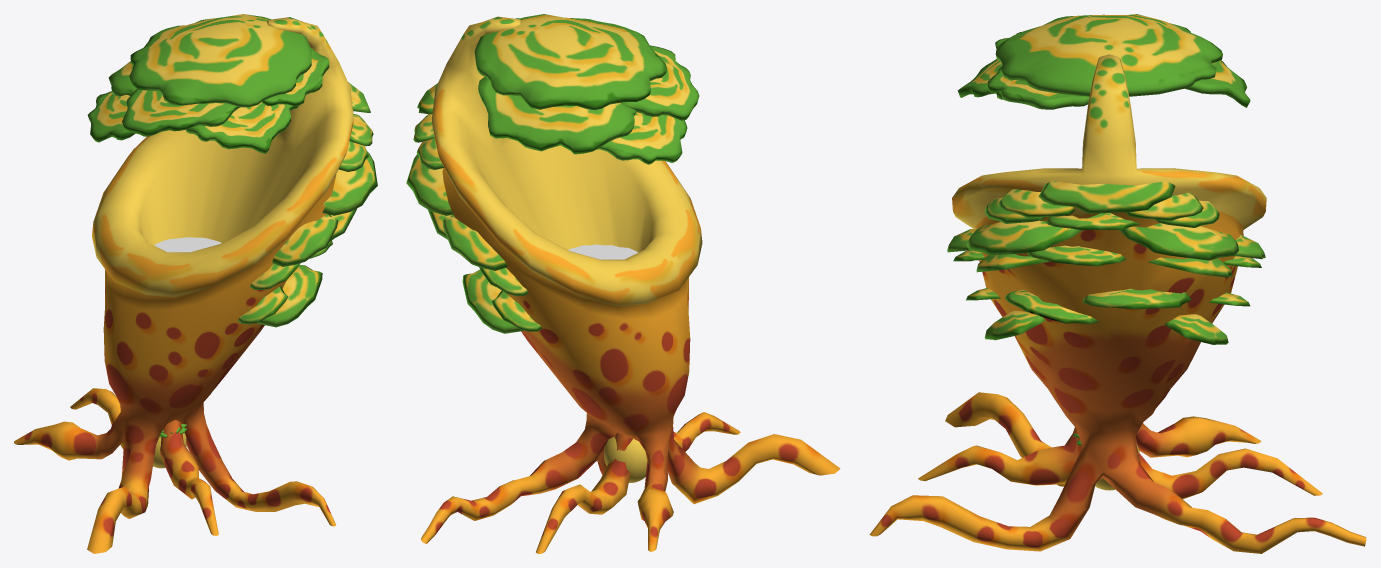
The model's file is 3D_AN_TestRegion_Flower_NymphsChalice_V1.fbx.
The picture shows the model from 3 angles, left to right: view 1: azimuth 30°, elevation 25°; view 2: azimuth 150°, elevation 25°; view 3: azimuth 270°, elevation 25°; orthographic projection. The views are drawn at different scales.
Parts seen in each view (by area): view 1: NymphChalice; view 2: NymphChalice, NymphChalice_Bud; view 3: NymphChalice.
Part boxes in pixels (left/top/right/bottom): NymphChalice: left=14, top=14, right=377, bottom=553; NymphChalice: left=406, top=14, right=840, bottom=553; NymphChalice_Bud: left=604, top=437, right=647, bottom=482; NymphChalice: left=869, top=14, right=1366, bottom=553.
Size of what is drawn, in the model's own units: 150 by 194 by 163.
